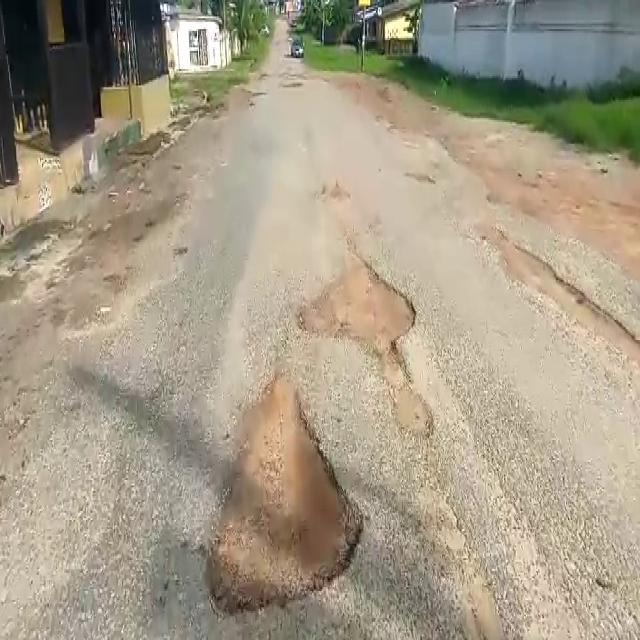Pothole: (188, 371, 374, 622), (293, 257, 427, 359), (408, 169, 441, 187)
